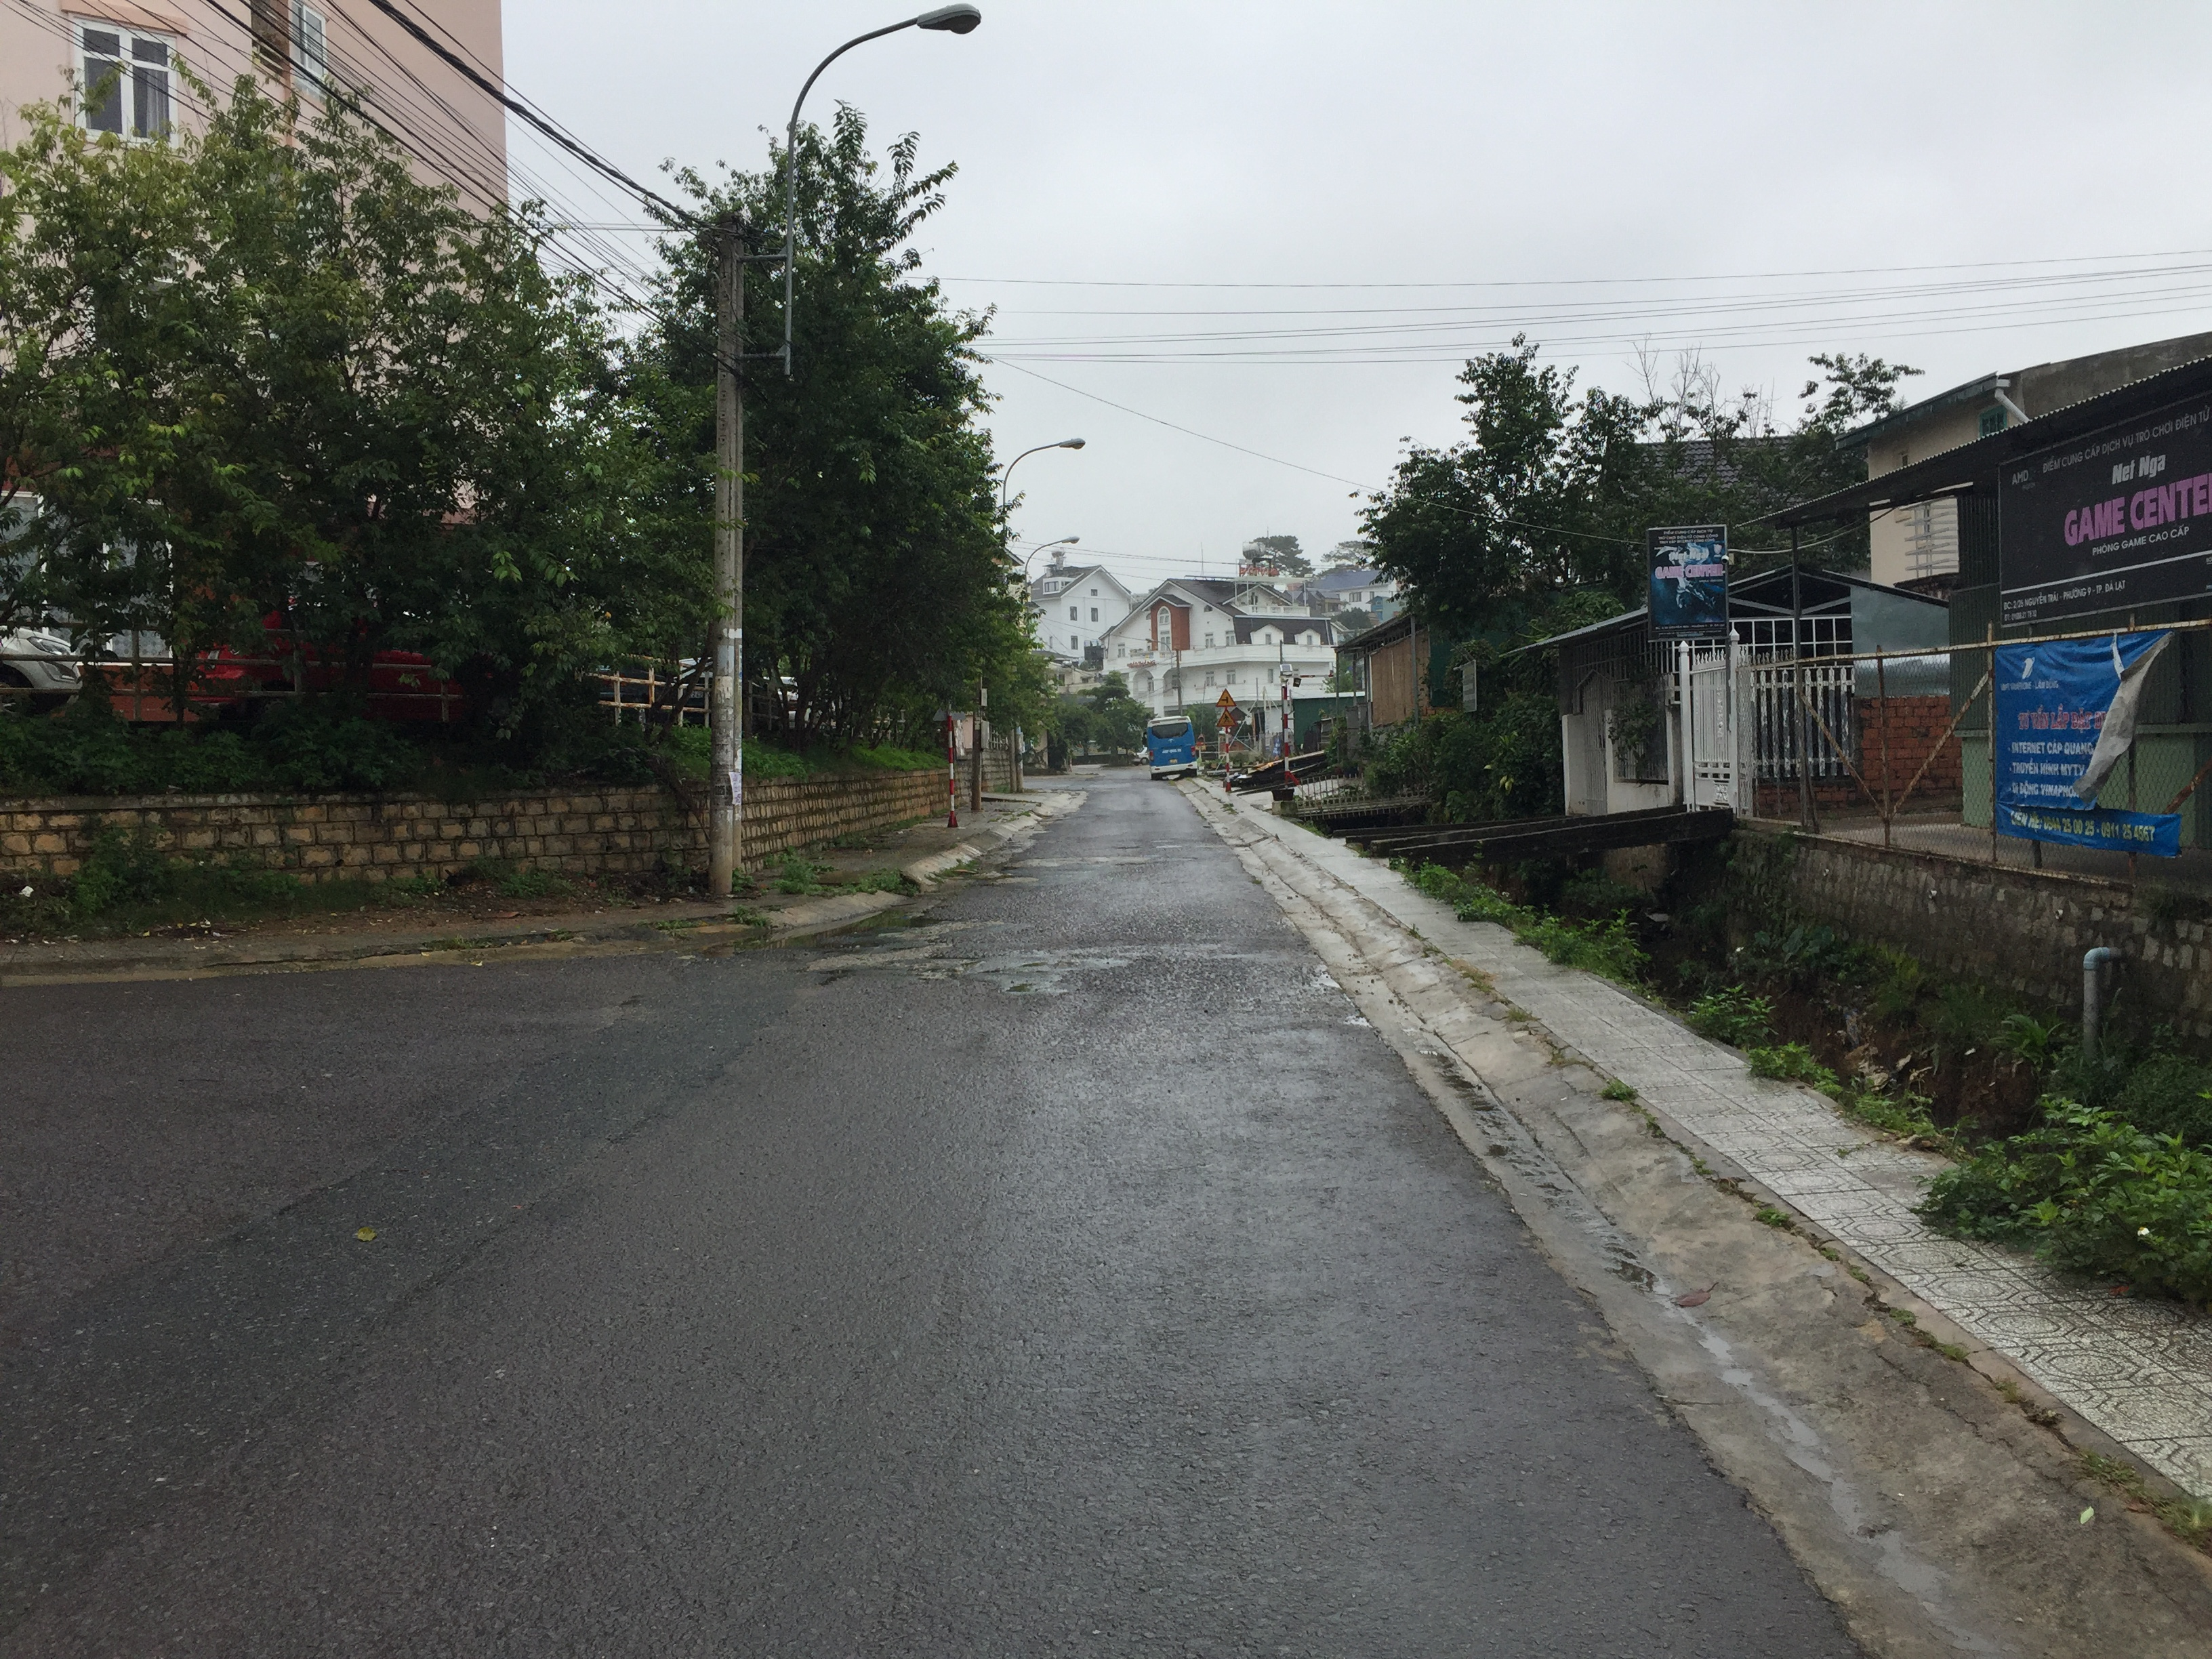hole: (890, 911, 953, 927), (1312, 960, 1341, 990), (817, 967, 857, 988), (909, 964, 961, 979), (829, 943, 921, 951), (1014, 960, 1099, 969), (1341, 1014, 1371, 1028), (1153, 856, 1198, 864), (993, 875, 1038, 884), (928, 955, 984, 962), (1005, 981, 1040, 992), (975, 965, 1005, 976), (923, 936, 953, 945), (1115, 861, 1146, 866), (996, 866, 1022, 871), (1113, 845, 1143, 849), (1153, 845, 1183, 849), (1200, 824, 1212, 828)
